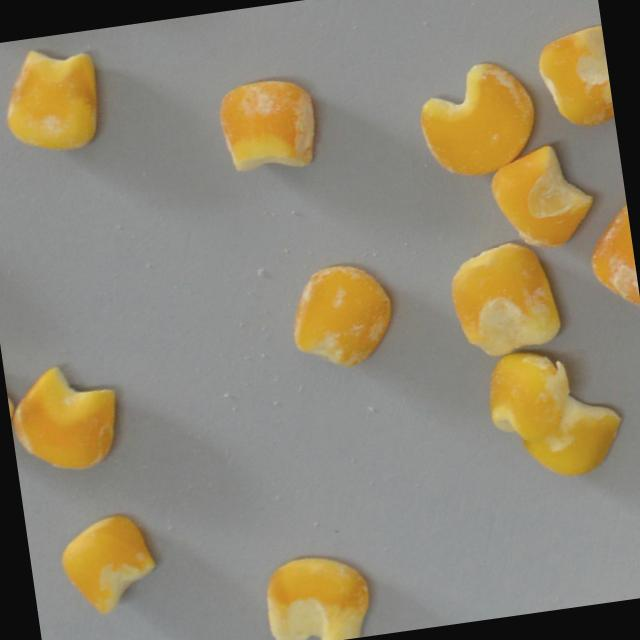no_canjicado: (0, 44, 105, 161), (54, 511, 163, 620), (516, 387, 630, 481)
pelicula: (414, 58, 541, 180), (443, 238, 565, 362), (7, 360, 126, 477), (283, 257, 400, 374), (485, 138, 599, 256), (215, 76, 321, 178), (260, 548, 376, 640), (532, 23, 615, 133), (483, 346, 577, 443), (581, 190, 640, 316)
